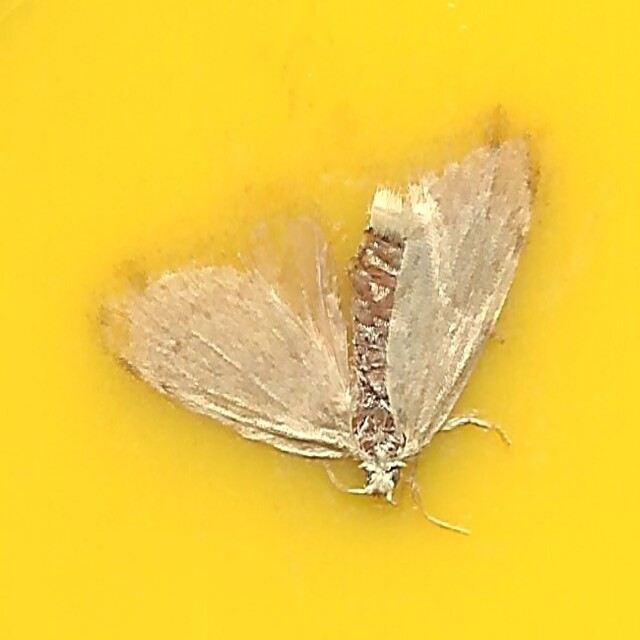Lepidoptera: (98, 132, 542, 508)
